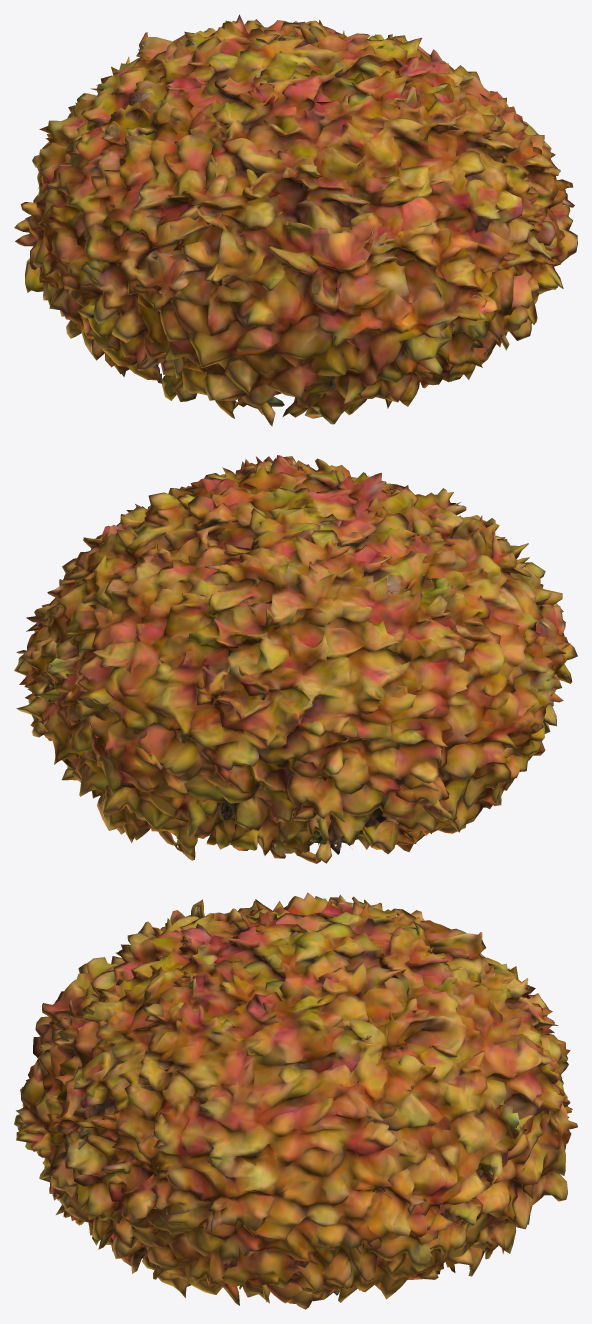
File: arbusto-redondo.glb
3 renders of one model, top to bottom at view 1: azimuth 30°, elevation 25°; view 2: azimuth 150°, elevation 25°; view 3: azimuth 270°, elevation 25°, orthographic. The views are drawn at different scales.
Size of the model in its own units: 2 by 1.3 by 1.99.
1 material, 1 textured.
